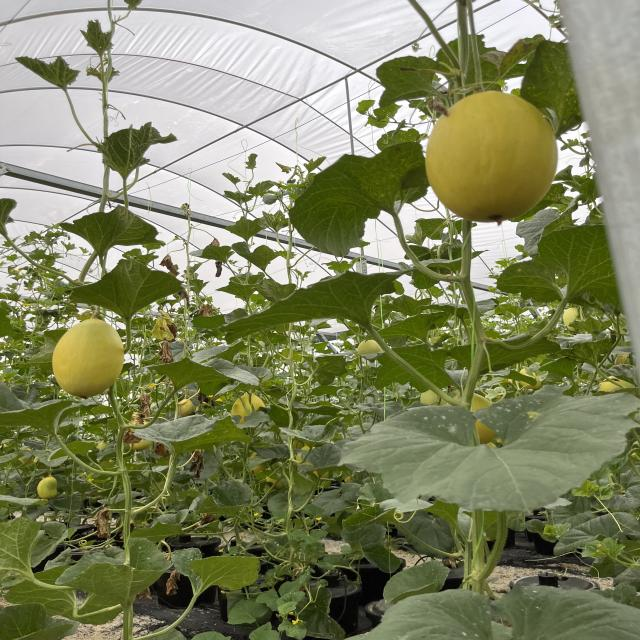CMV: (195, 487, 249, 518), (174, 550, 200, 578)
alternaria leaf blight: (145, 416, 249, 456)
bacterial wilt: (154, 318, 178, 341), (95, 508, 110, 536), (192, 452, 207, 475), (196, 393, 214, 406), (159, 344, 173, 360), (164, 254, 176, 272), (214, 262, 226, 277)
downy mildew: (358, 395, 631, 509), (288, 144, 430, 256), (522, 34, 591, 129), (142, 357, 262, 392), (72, 548, 165, 593), (0, 395, 67, 432)
healthy: (231, 269, 395, 337), (496, 217, 616, 307), (72, 259, 186, 317), (60, 207, 160, 254), (377, 347, 455, 393), (0, 516, 47, 586), (456, 336, 552, 370), (101, 126, 168, 172), (2, 607, 69, 640), (198, 554, 262, 586), (234, 243, 277, 268), (227, 218, 262, 240), (199, 247, 226, 262)
powdery mildew: (348, 395, 631, 512)
